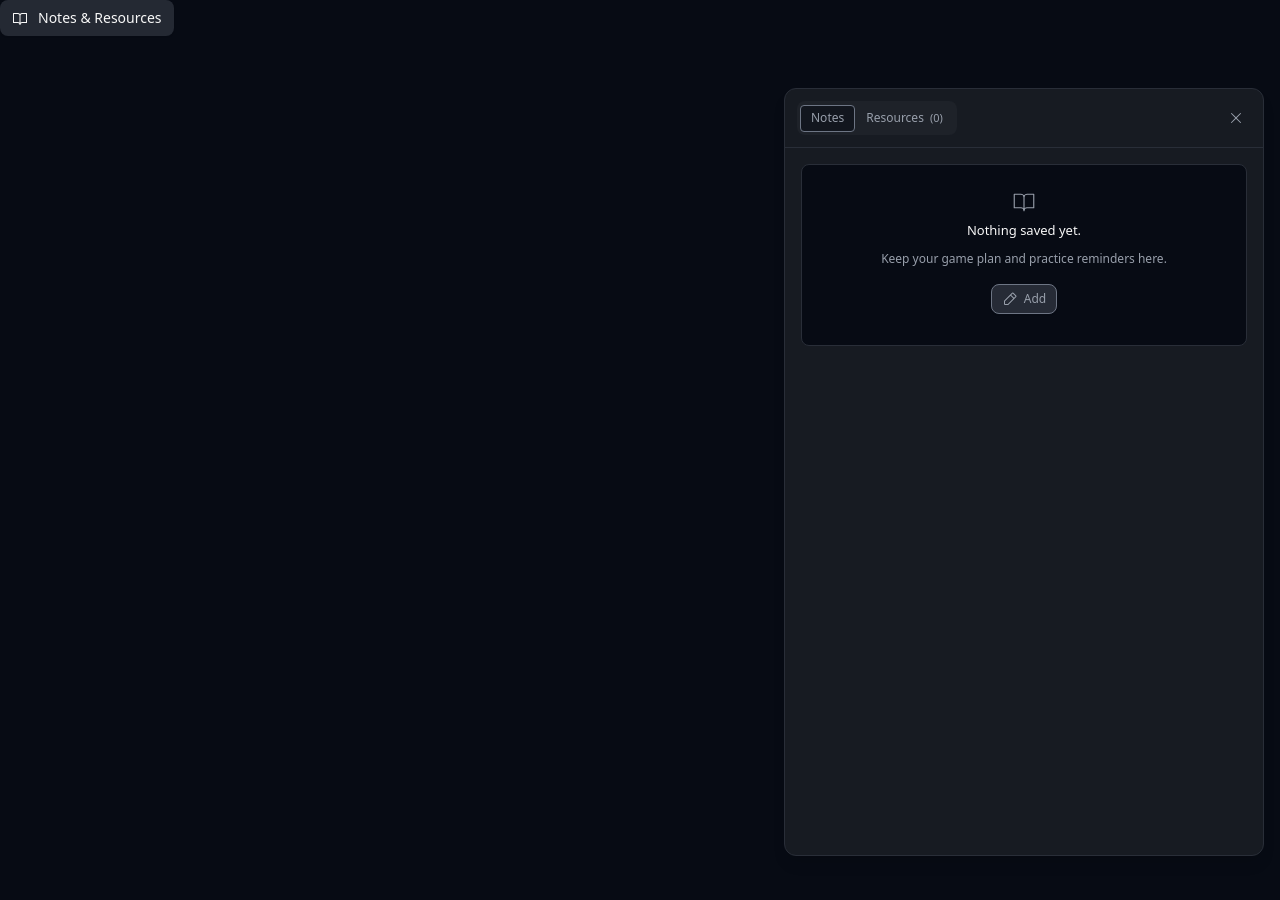
Test case: EntityNotebook › rejects the unsafe or malformed URL javascript:alert(1) without losing the draft
Click the tab "Resources (0)".
click(904, 118)  # box [855,104,954,132]
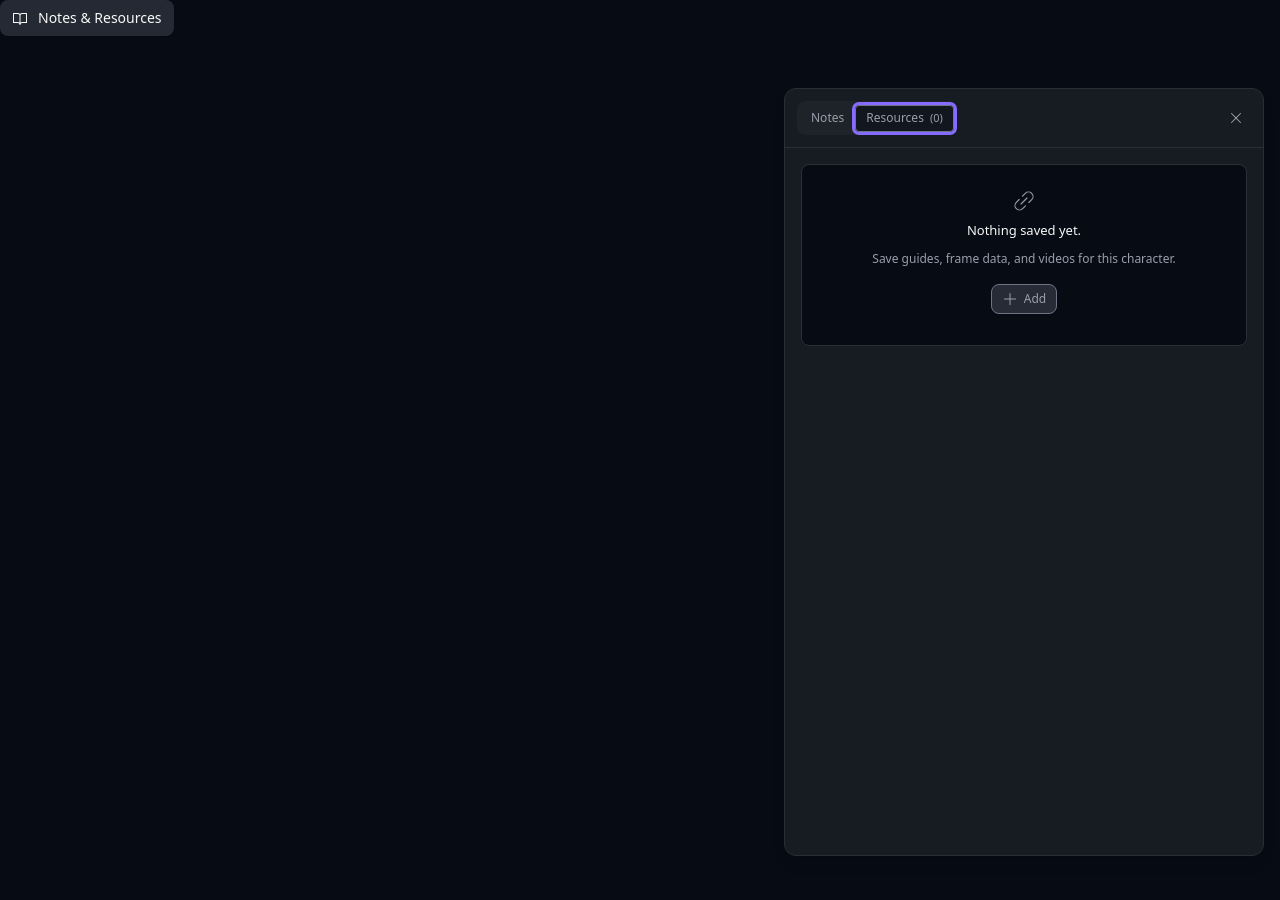
Click the button with aria-label "Add resource link".
click(1024, 299)  # box [991,284,1057,314]
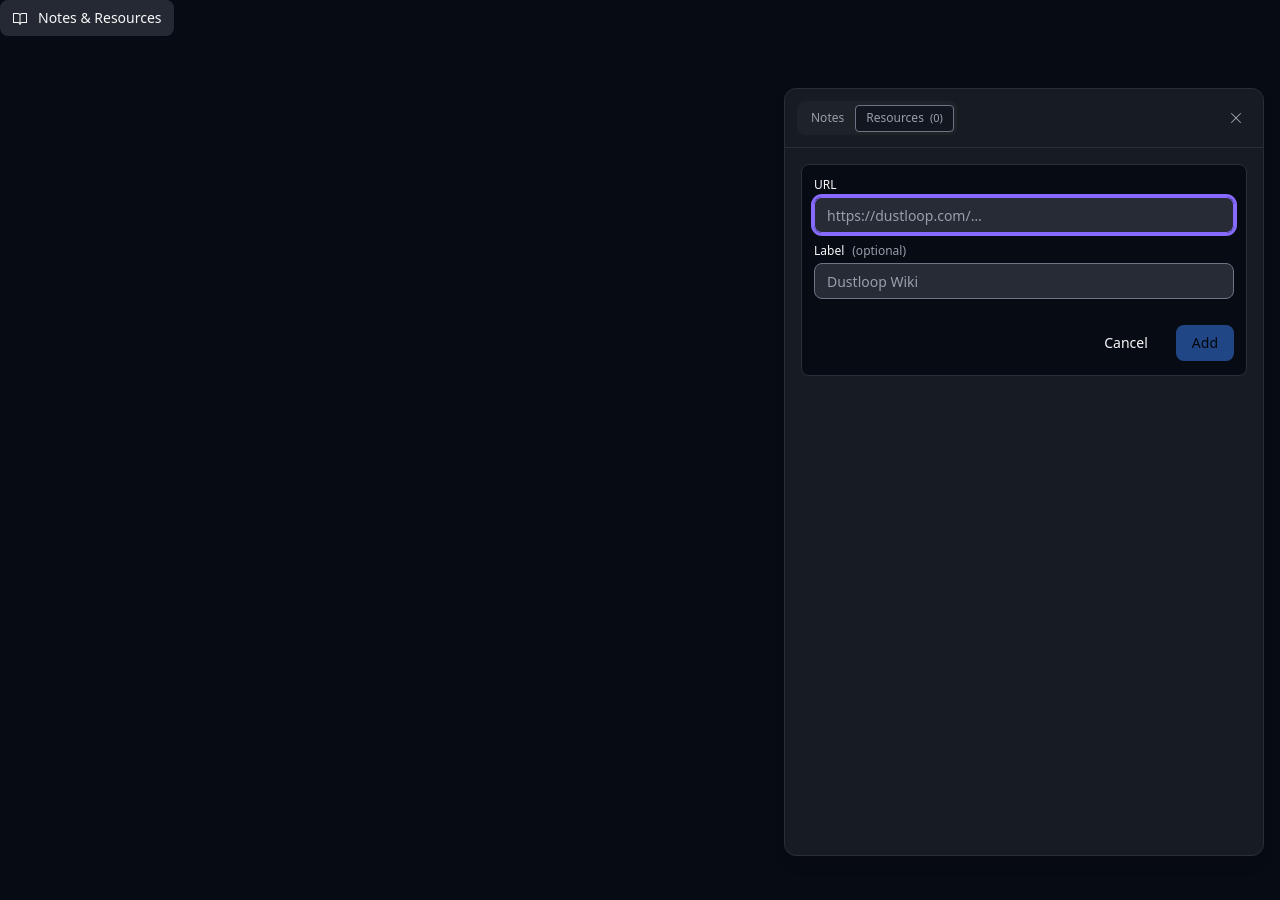
Type "javascript:alert(1)" into the field labelled "URL".
click(1024, 215); type("javascript:alert(1)")  # box [814,197,1234,233]
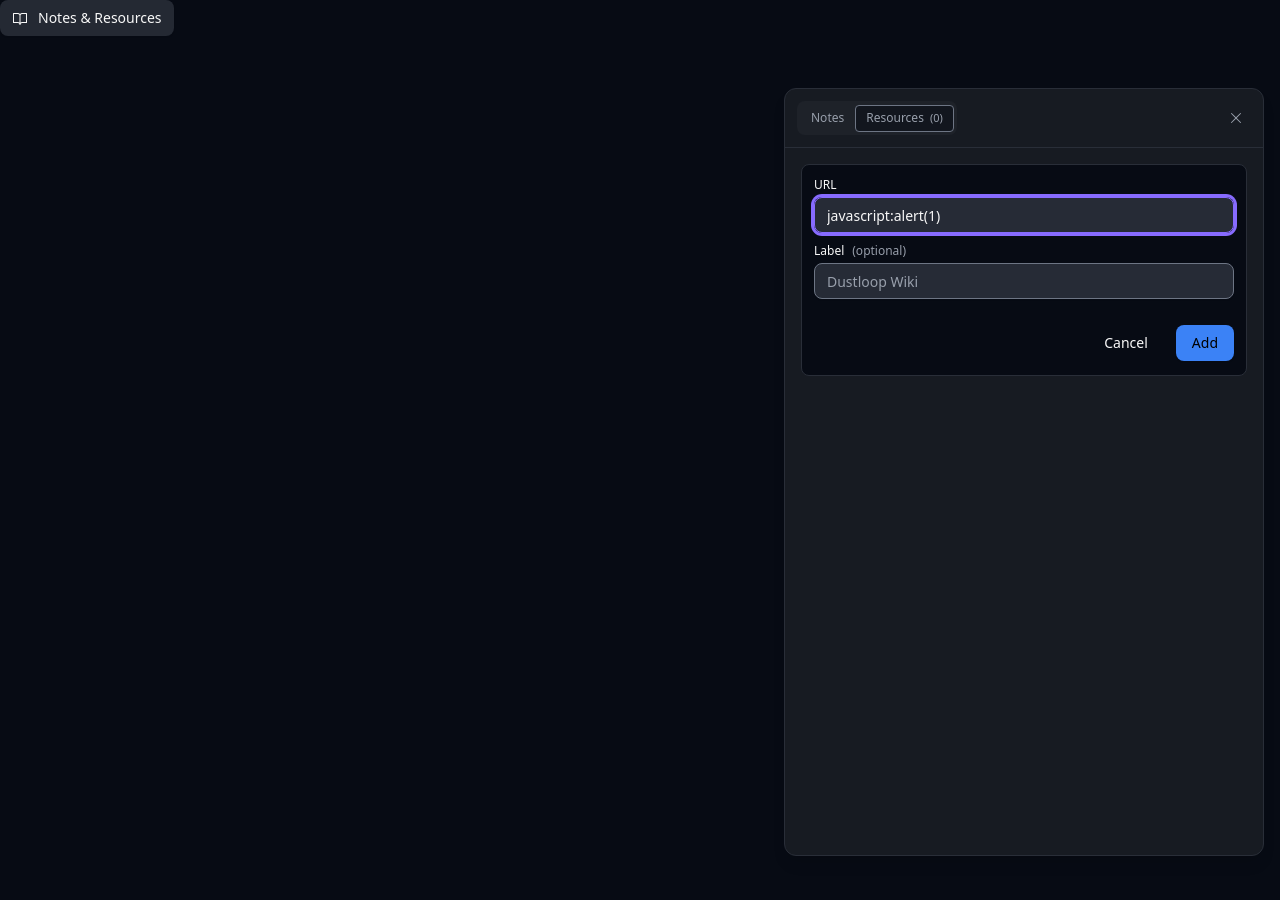
Click the button with aria-label "Add resource".
click(1205, 343)  # box [1176,325,1234,361]
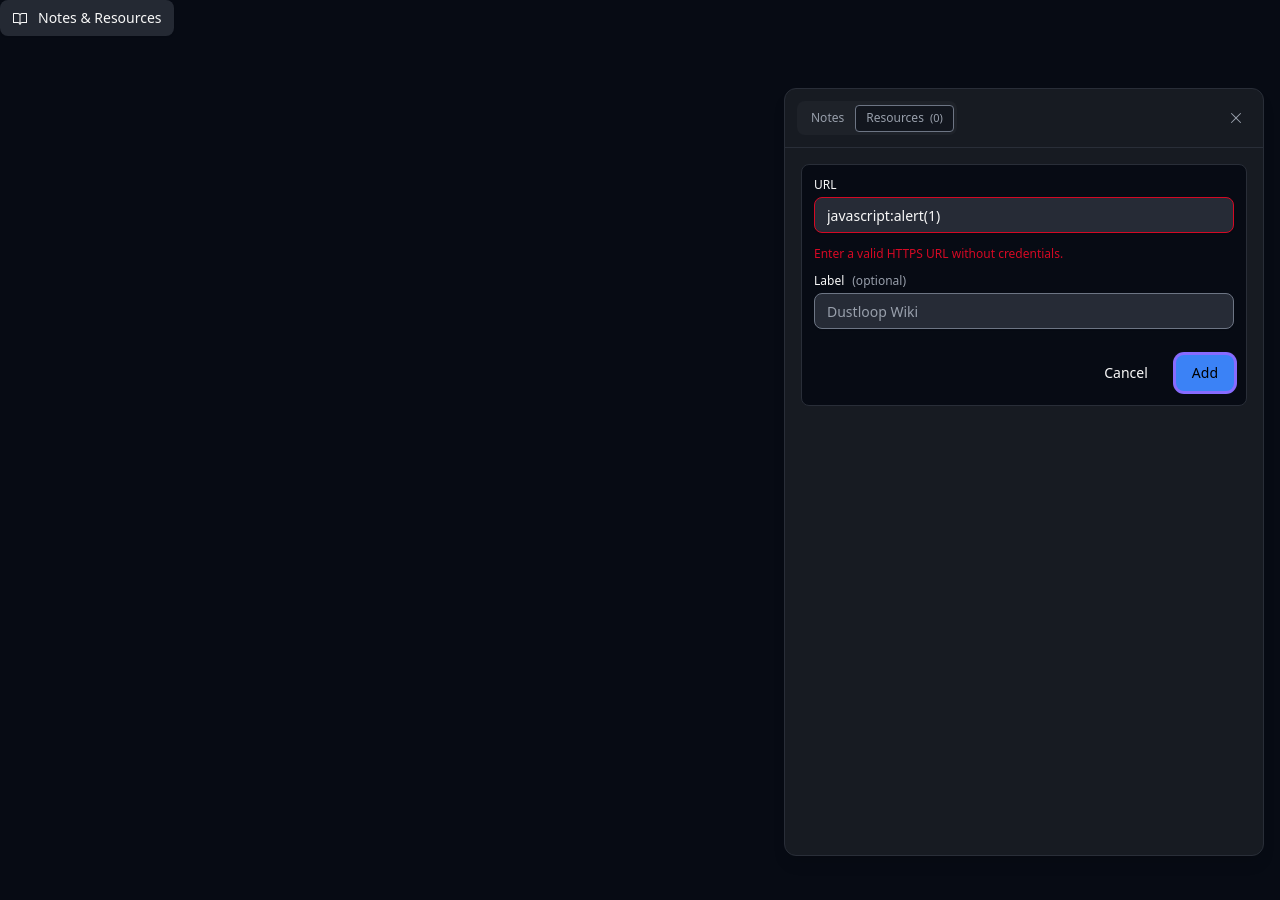
expect the message shows "HTTPS": met, box [814,245,1063,262]
